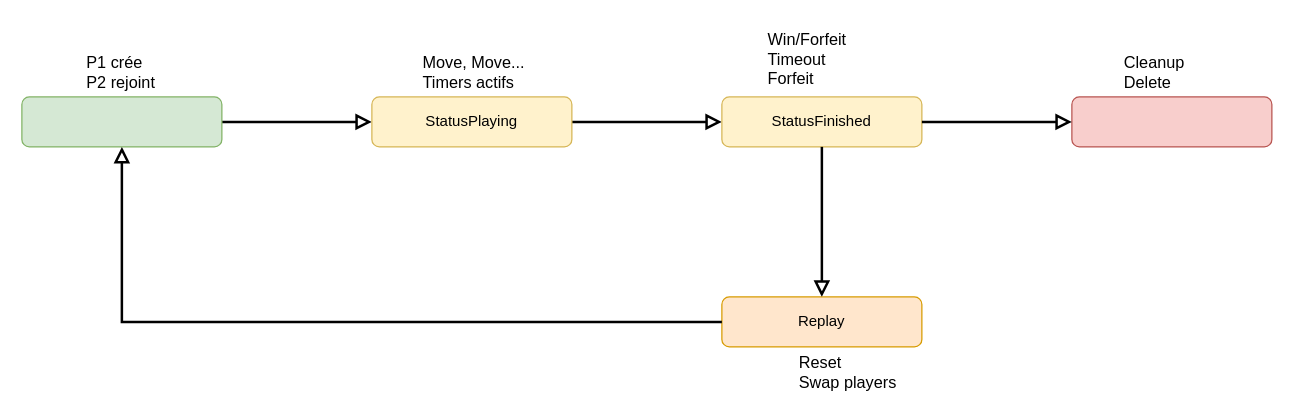
Some shapes in this 1294 by 418 pixel diagram are drawn without their labels. Here are the shapes that lost their labels. From the top down, the box of each, then its label:
(21, 96, 222, 147): StatusWaiting
(1071, 96, 1272, 147): StatusCleaned
